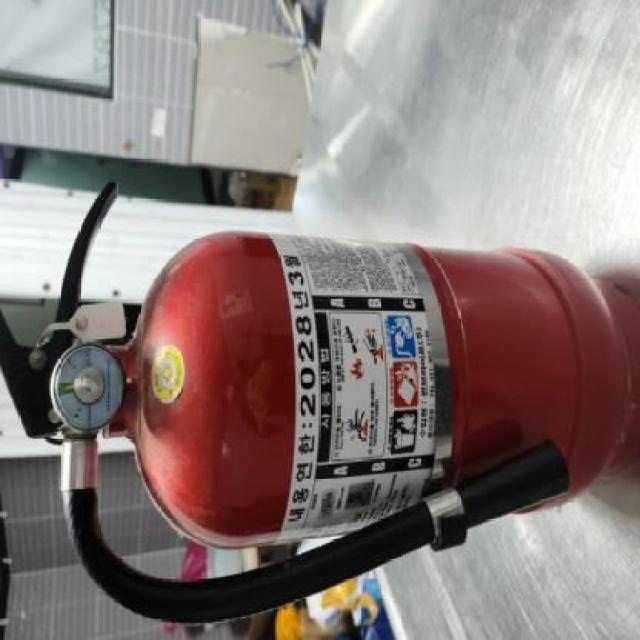fire extinguisher: (0, 180, 640, 625)
